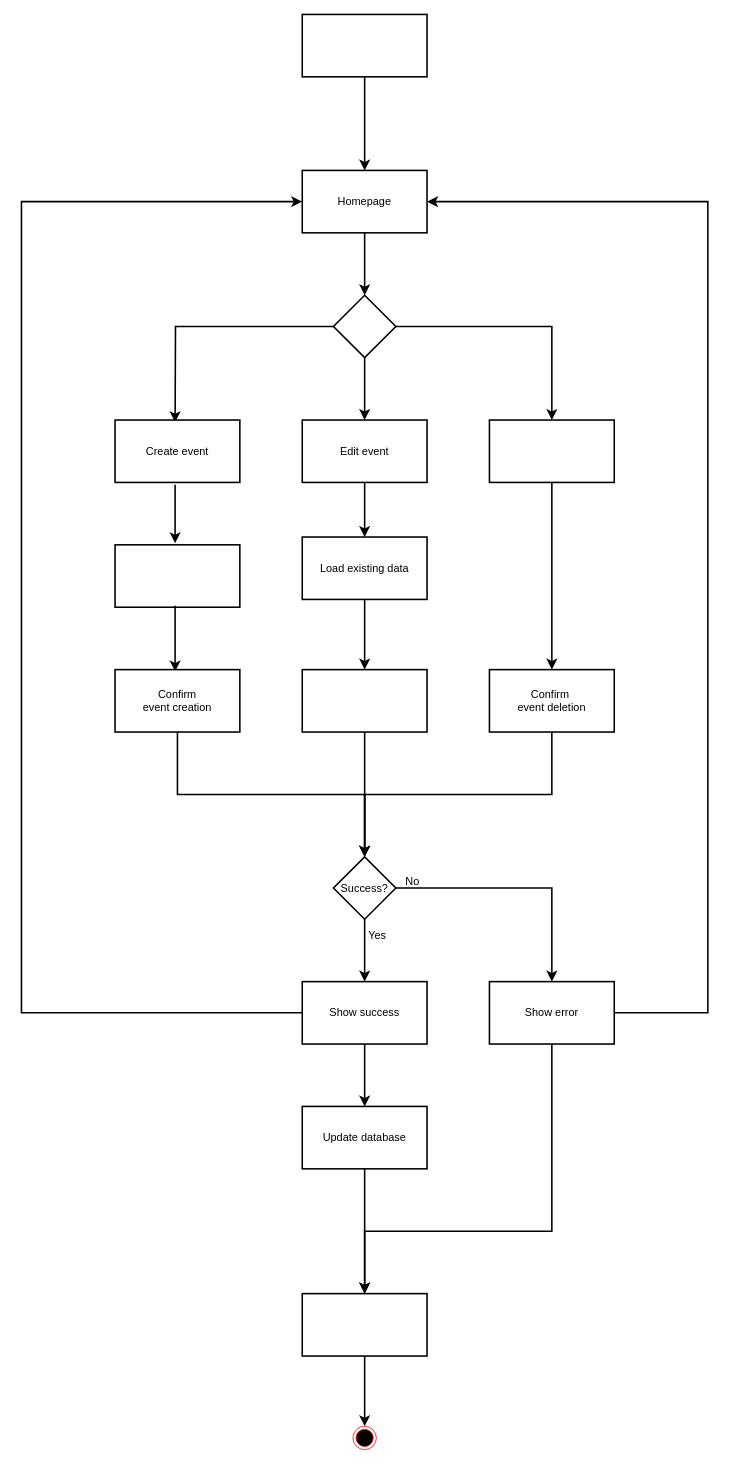
The diagram is 729 pixels wide and 1463 high, and some of its shapes have lost their labels. The centre of each missing label's shape, as x and y in pixels:
"Confirm event edit" belongs at pixel 364 700.
"Delete event" belongs at pixel 551 451.
"Fill create event form" belongs at pixel 177 576.
"Logout" belongs at pixel 364 1324.
"Organizer" belongs at pixel 364 45.
